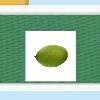ripe: (32, 45, 69, 68)
